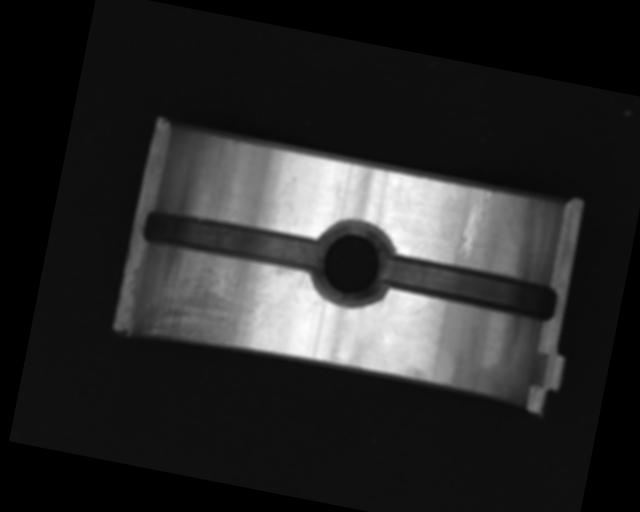gap: (142, 204, 324, 276), (381, 252, 560, 322)
hole: (305, 217, 400, 313)
nick: (455, 184, 493, 261)
scratch: (136, 242, 290, 364)
